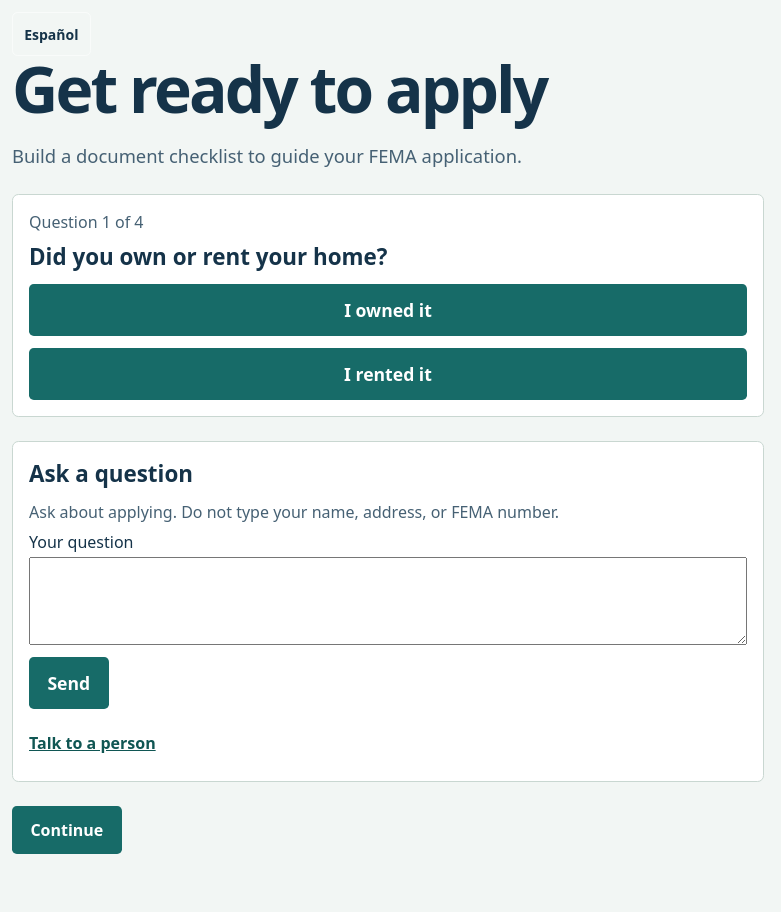
chat panel › works in Spanish
The image size is (781, 912).
What coordinates should you click on to do the following:
click the button "Español"
I would click on:
 (51, 34)
Its box is x1=12 y1=12 x2=91 y2=56.
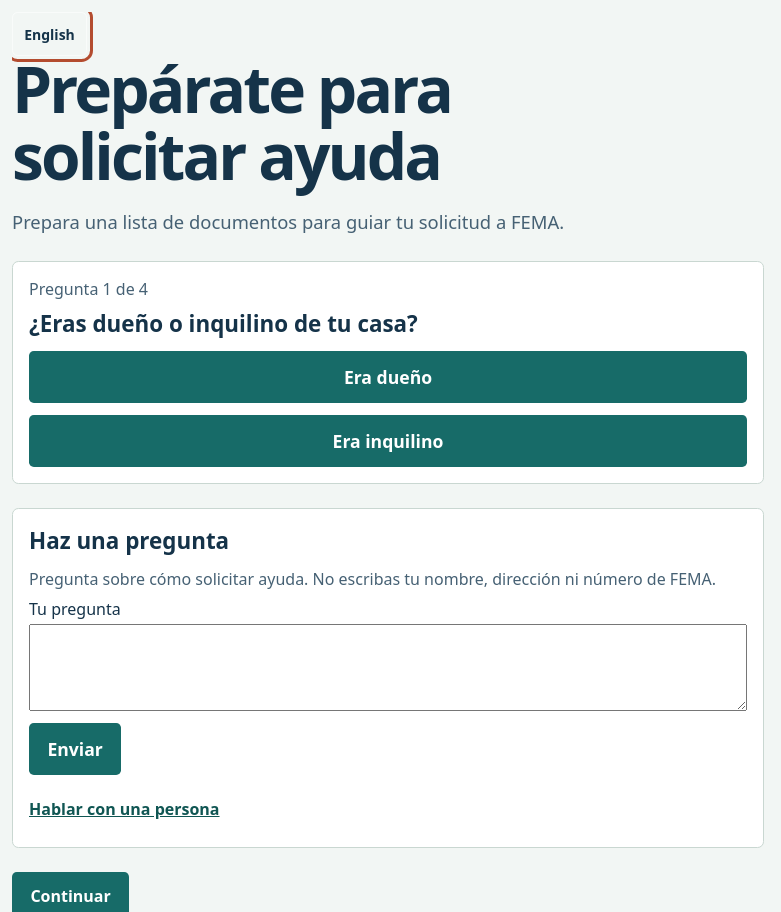
Result: the heading "¿Eras dueño o inquilino de tu casa?" is shown at x1=29 y1=308 x2=418 y2=339
Result: the heading "Haz una pregunta" is shown at x1=29 y1=525 x2=229 y2=556
